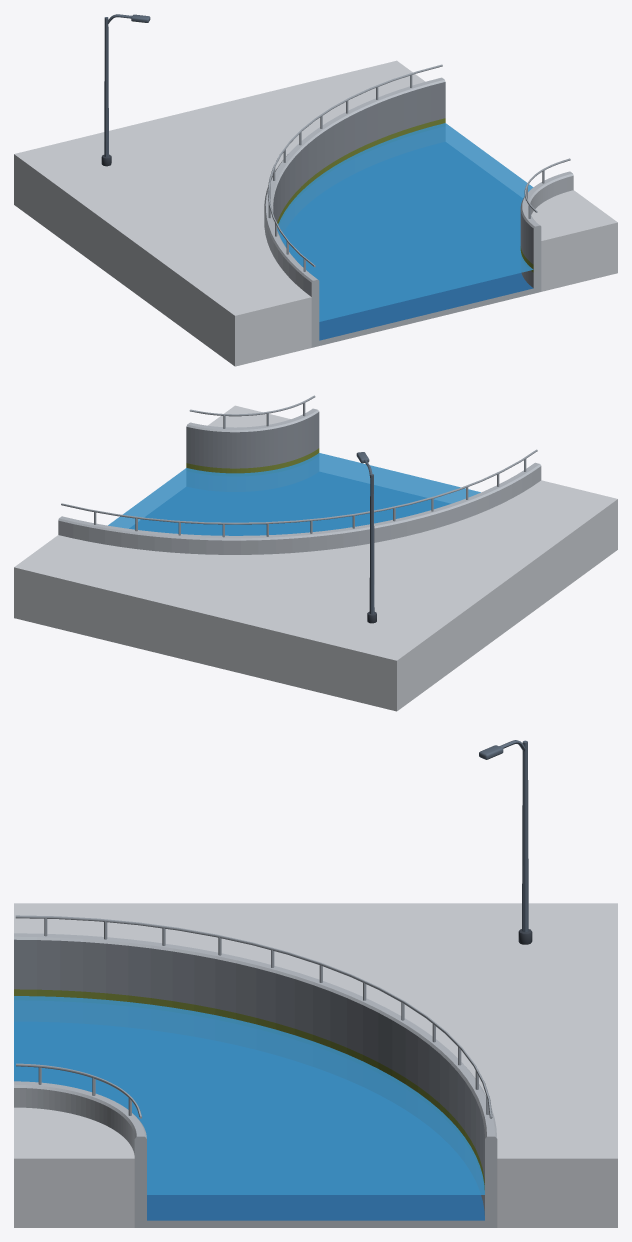
The model's file is canal_curva.glb.
The picture shows the model from 3 angles, top to bottom: view 1: azimuth 30°, elevation 25°; view 2: azimuth 150°, elevation 25°; view 3: azimuth 270°, elevation 25°; orthographic projection. The views are drawn at different scales.
Visible parts, largest first — view 1: canal_curva; view 2: canal_curva; view 3: canal_curva.
Boxes of the visible parts, left/top/right/bottom form: canal_curva: left=14, top=14, right=617, bottom=366; canal_curva: left=14, top=395, right=617, bottom=711; canal_curva: left=14, top=740, right=617, bottom=1227.
Bounding box in the file's own units: 15 × 7.58 × 15.
Materials: 3 (1 with a texture image).
